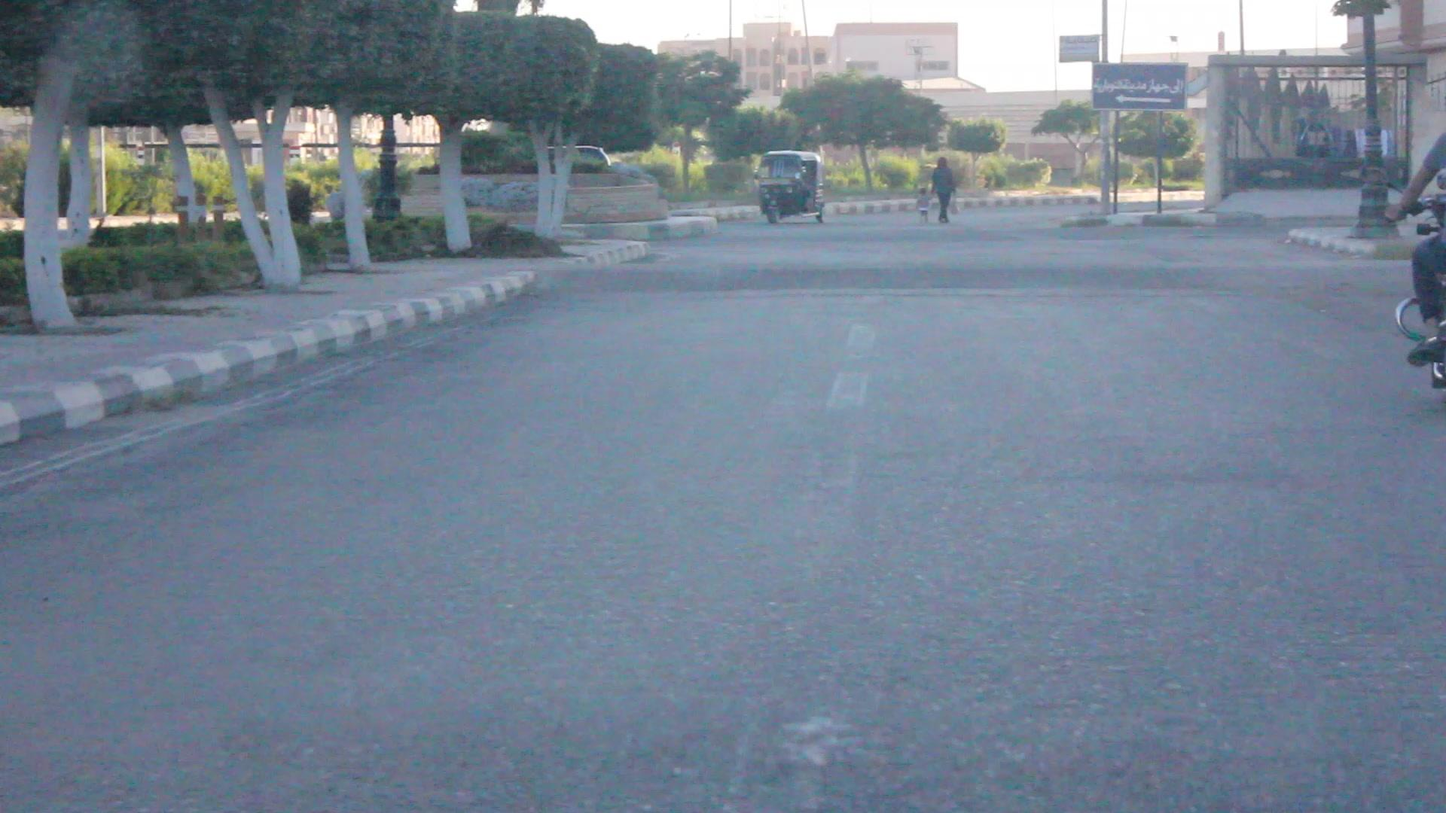Bump: (514, 257, 1419, 300)
